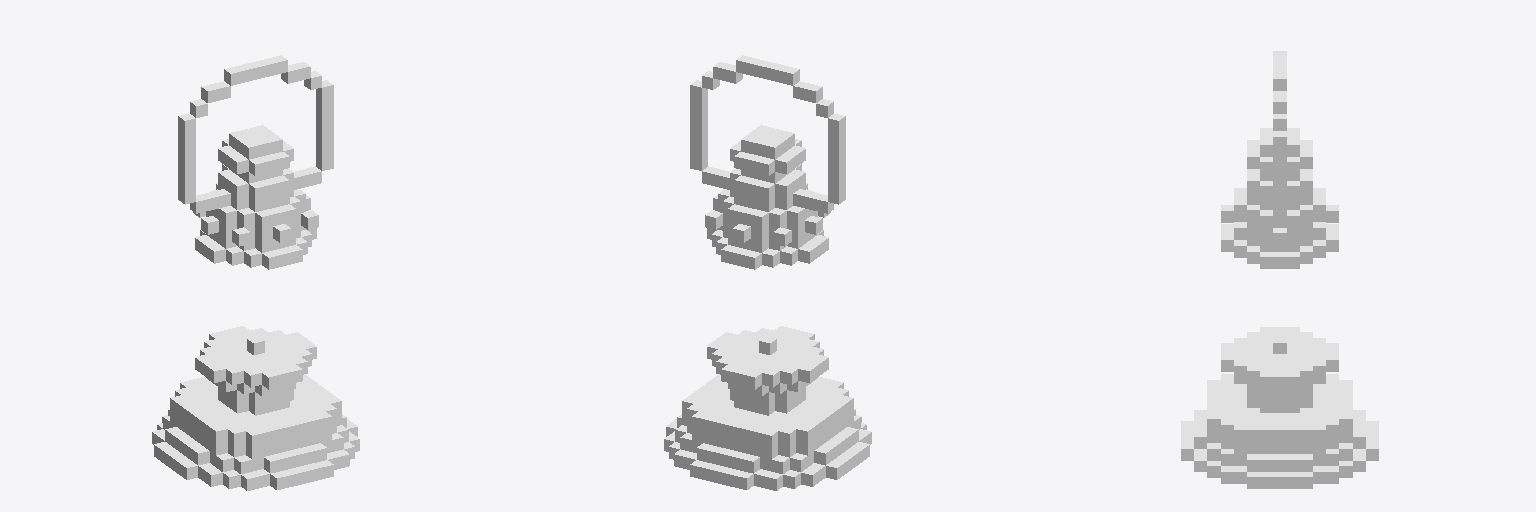
Rendered from Lantern_2.obj.
3 renders of one model, left to right at view 1: azimuth 30°, elevation 25°; view 2: azimuth 150°, elevation 25°; view 3: azimuth 270°, elevation 25°, orthographic.
Visible parts, largest first — view 1: object 1; view 2: object 1; view 3: object 1.
Part boxes in pixels (left/top/right/bottom): object 1: left=152, top=55, right=359, bottom=490; object 1: left=664, top=55, right=871, bottom=490; object 1: left=1181, top=51, right=1378, bottom=488.
Bounding box in the file's own units: 1.5 × 3.2 × 1.5.